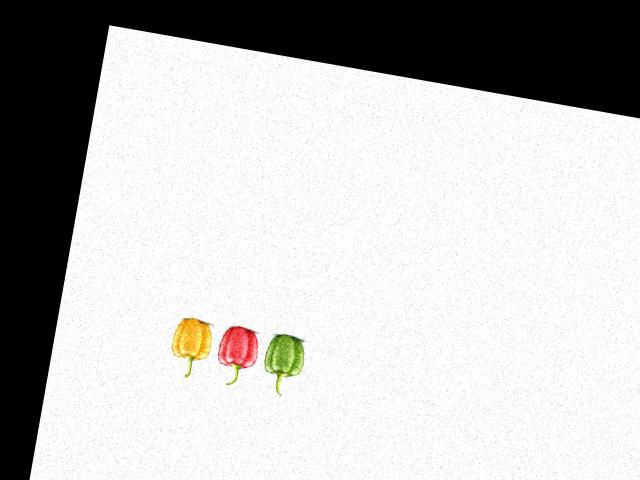bell_pepper: (259, 328, 312, 399)
